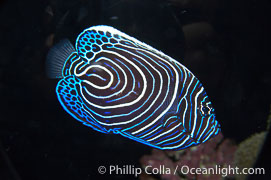Pomacanthus_imperator: (42, 24, 226, 154)
